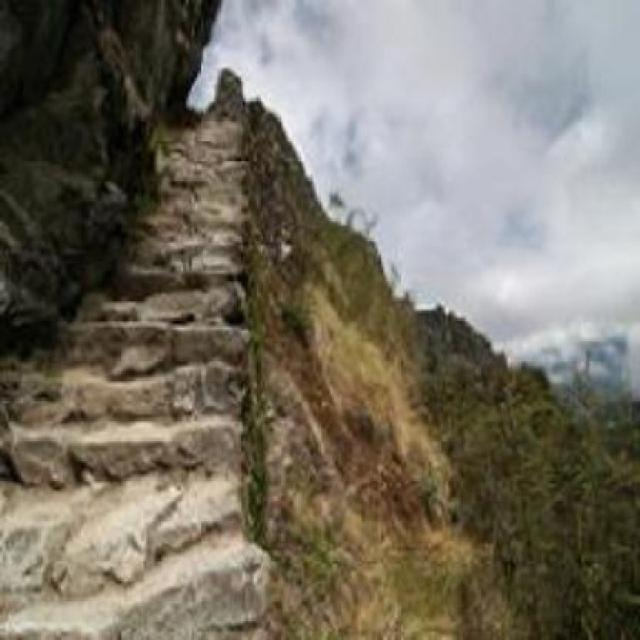stair: (2, 94, 278, 640)
